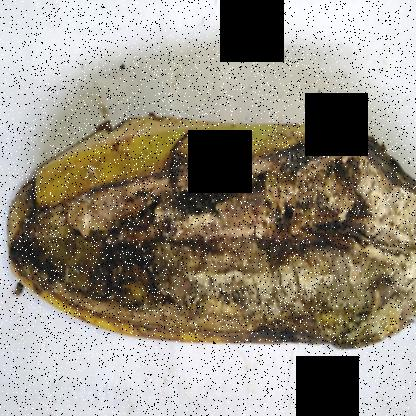rotten: (15, 117, 416, 358)
